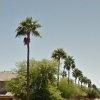Palm tree: (10, 13, 43, 78)
